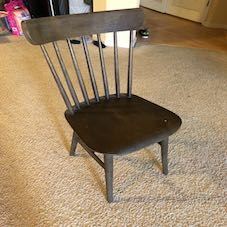chair: (15, 7, 200, 204)
